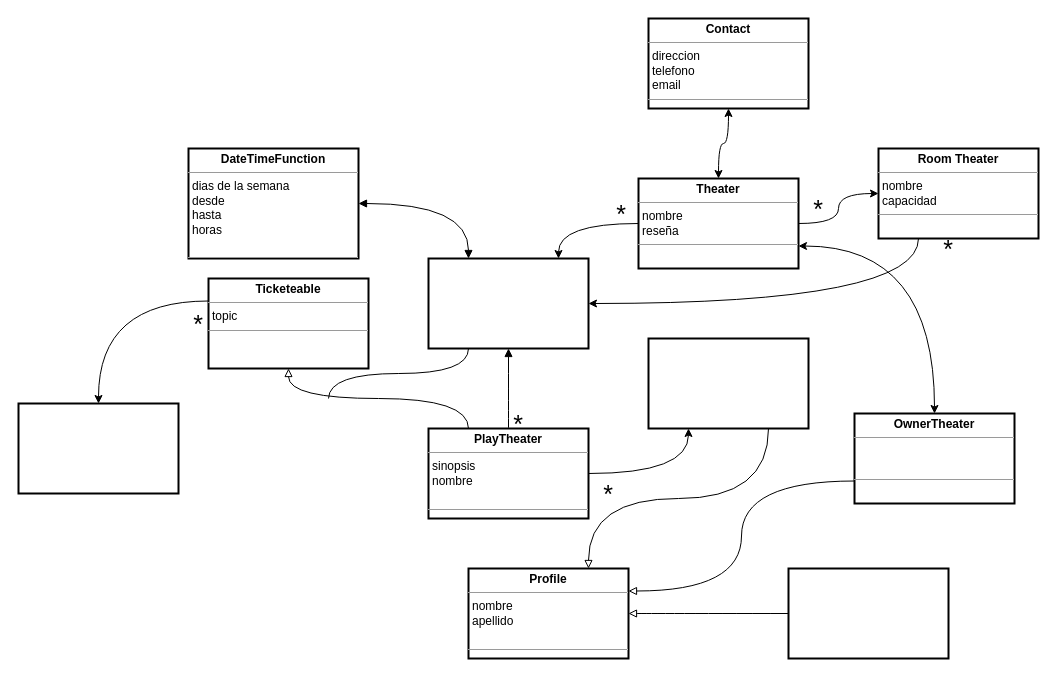
This 1056x676 diagram has some shape labels left out. Each missing label, with the centre of its shape:
Actor: (x=728, y=383)
DayFunction: (x=508, y=303)
Spectator: (x=868, y=613)
Ticket precio nombre: (x=98, y=448)
